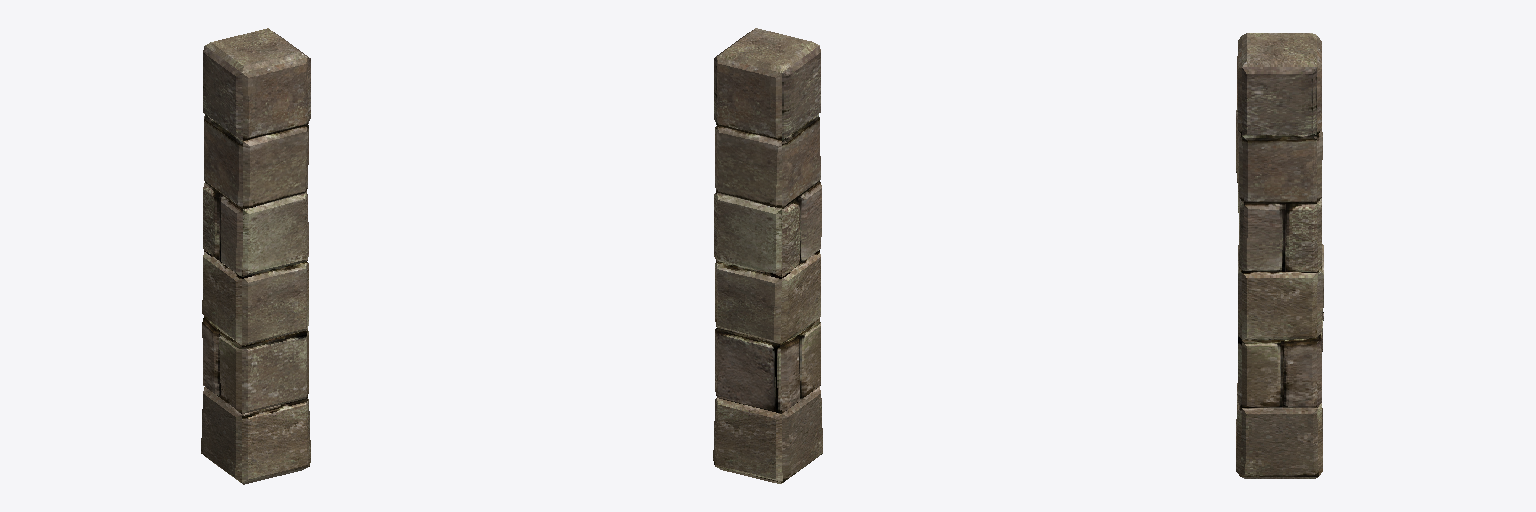
The picture shows the model from 3 angles: view 1: azimuth 30°, elevation 25°; view 2: azimuth 150°, elevation 25°; view 3: azimuth 270°, elevation 25°; orthographic projection.
Parts seen in each view (by area): view 1: Box001; view 2: Box001; view 3: Box001.
Part boxes in pixels (left/top/right/bottom): Box001: left=201, top=28, right=310, bottom=484; Box001: left=713, top=28, right=822, bottom=483; Box001: left=1236, top=33, right=1323, bottom=478.
Bounding box in the file's own units: 0.5831 × 3.06 × 0.5862.
Materials: 1 (1 with a texture image).